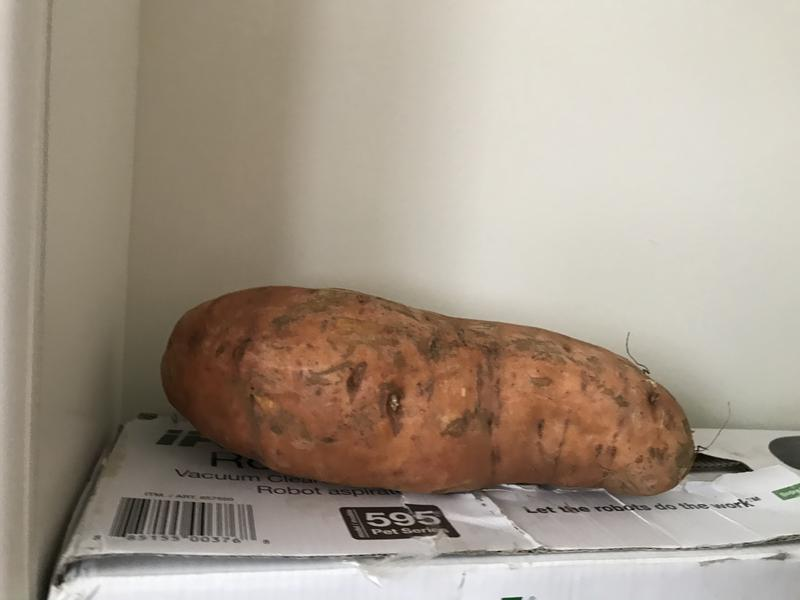sweet_potato: (148, 271, 724, 524)
